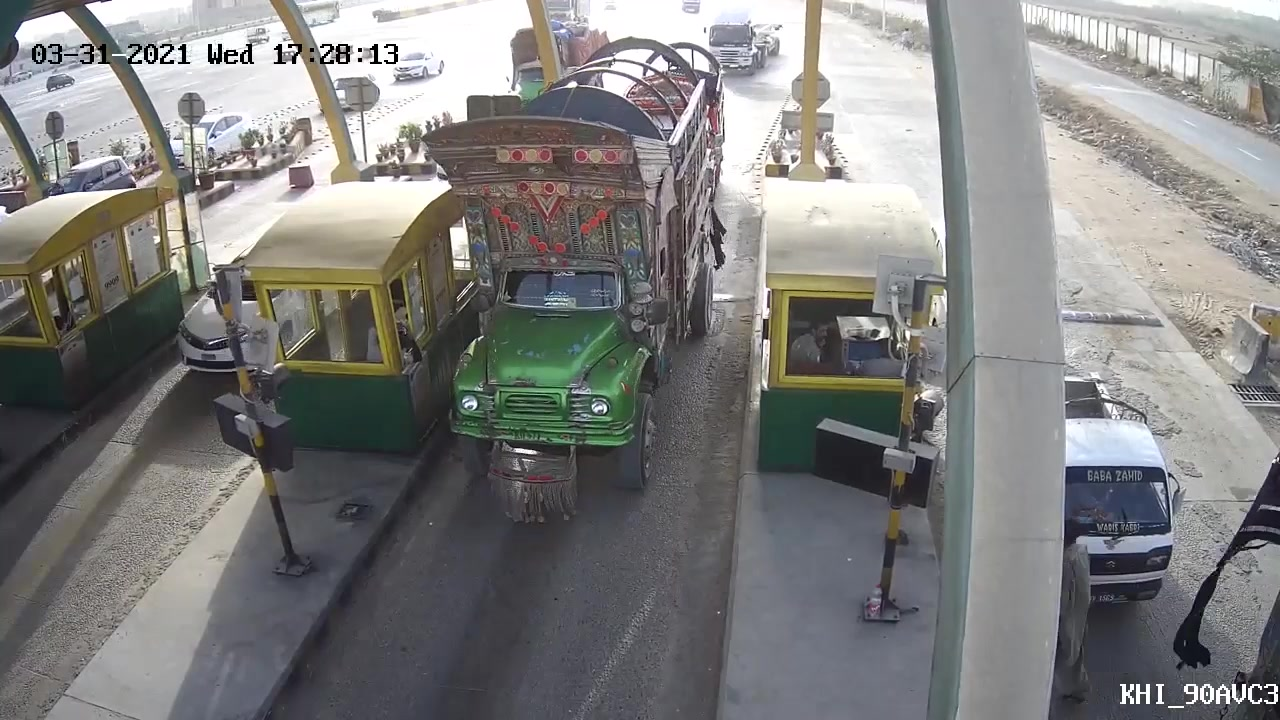F5: (411, 47, 745, 500)
